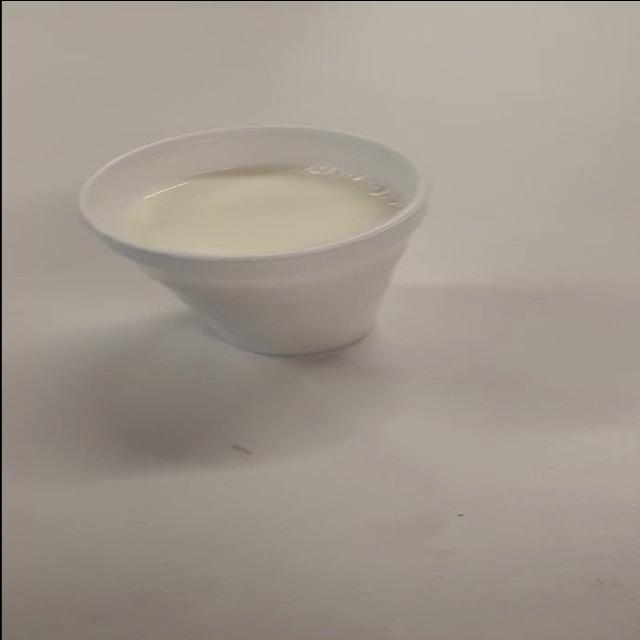Milk: (78, 108, 523, 412)
